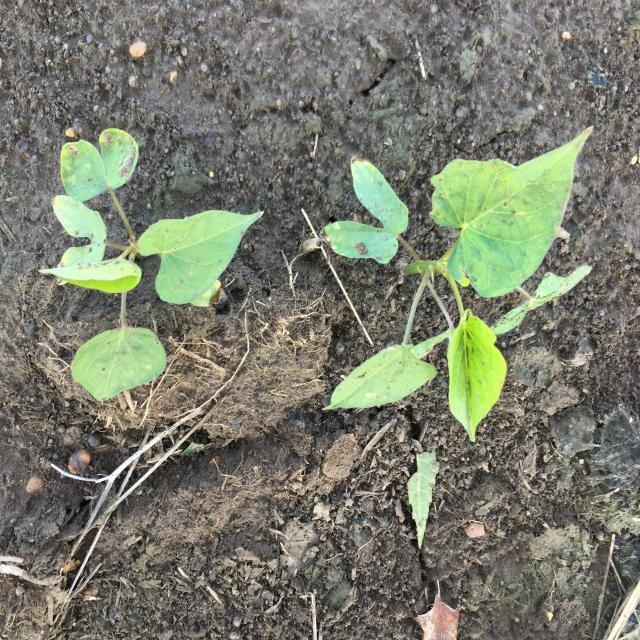MorningGlory: (321, 125, 593, 442), (38, 128, 264, 402)
